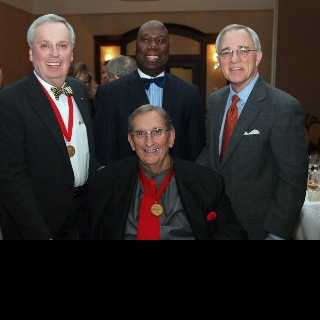without_mask: (128, 107, 175, 163), (29, 23, 73, 79), (131, 110, 170, 165), (220, 29, 255, 86), (133, 22, 170, 70), (103, 65, 108, 82)
